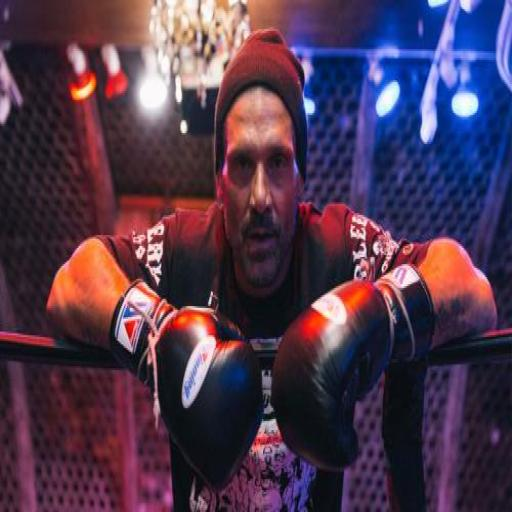boxing: (44, 26, 498, 508)
